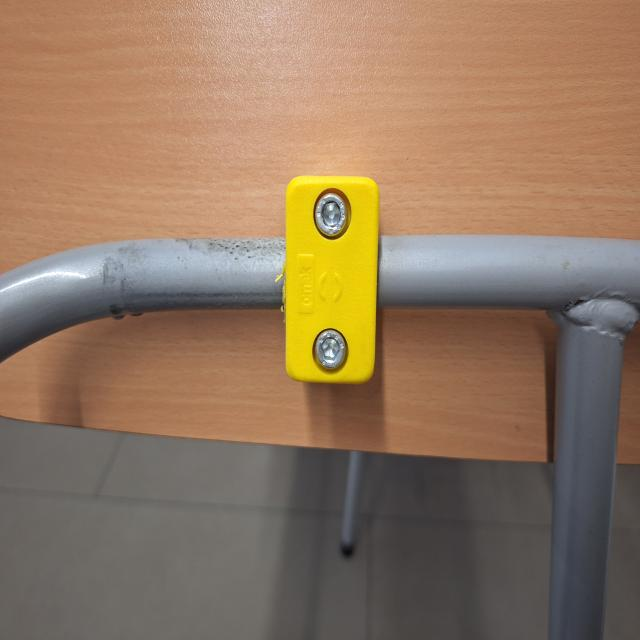Hex Socket Allen: (312, 328, 348, 372), (312, 194, 348, 238)
